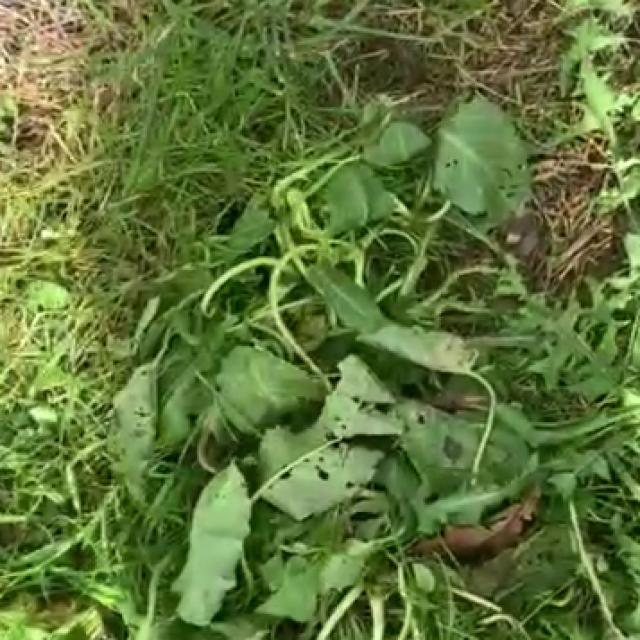organic waste: (109, 80, 566, 606)
